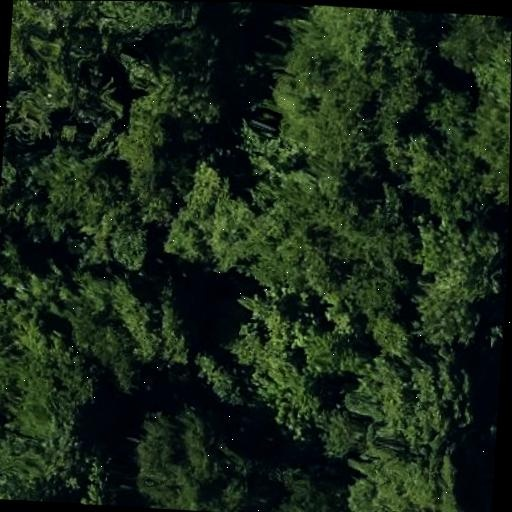tree-top: (155, 143, 386, 298), (266, 2, 430, 172), (336, 347, 478, 512), (222, 290, 365, 432), (67, 266, 195, 396), (407, 206, 505, 355), (131, 406, 263, 512), (421, 54, 511, 191), (4, 42, 112, 144), (0, 340, 98, 442), (126, 36, 222, 131), (36, 147, 127, 242), (104, 109, 178, 193), (76, 1, 211, 44), (264, 450, 331, 512)
